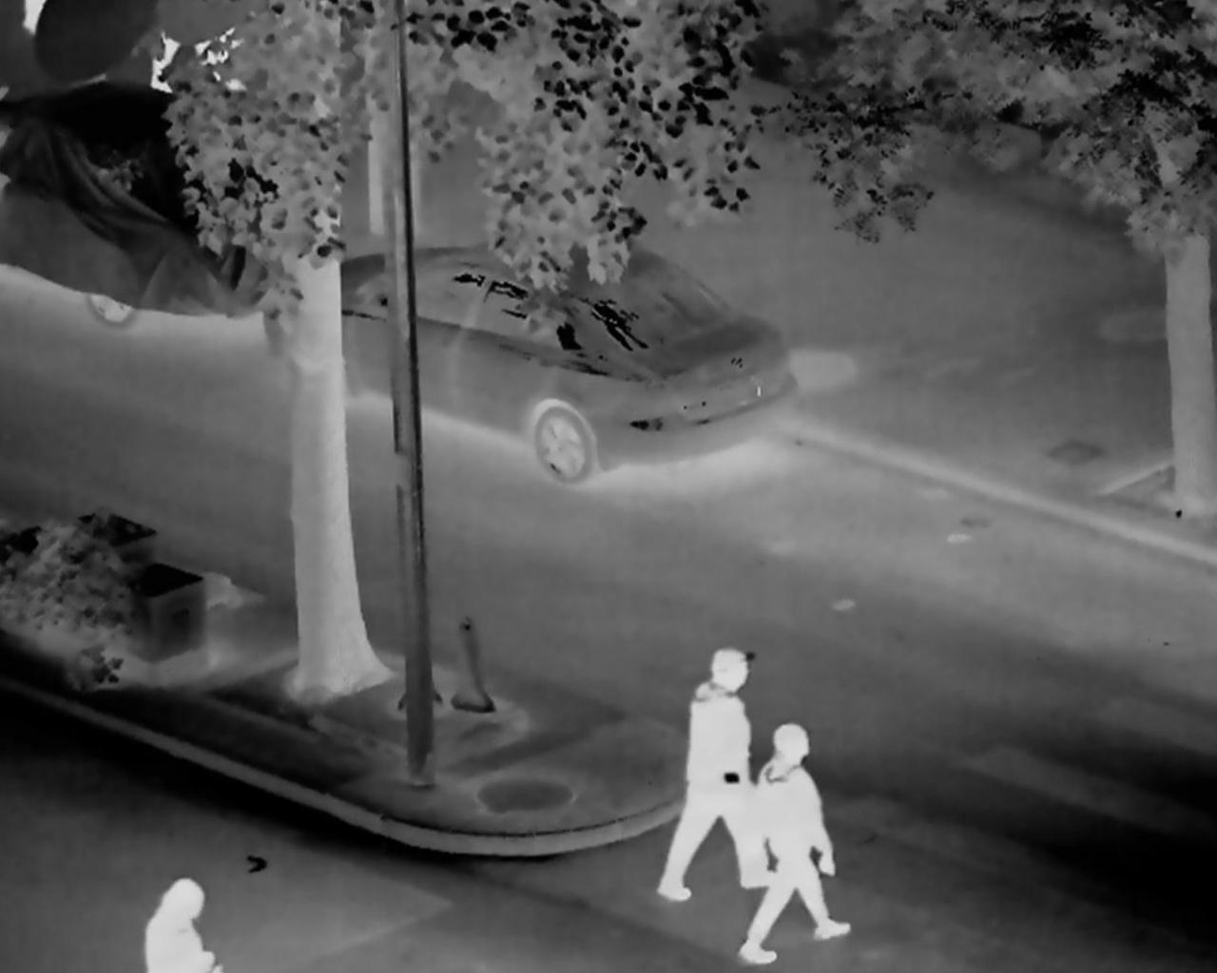person: (737, 709, 857, 964), (673, 636, 759, 905), (131, 869, 231, 973)
